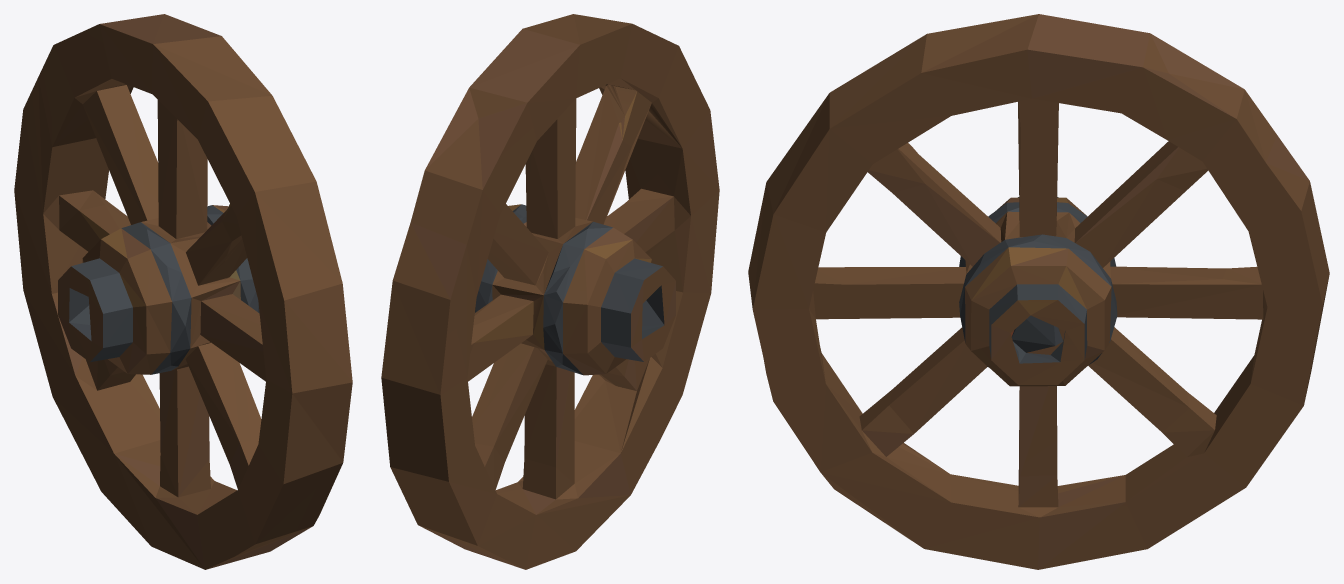
The model's file is mdvl_props_cart_wheel_01.glb.
The picture shows the model from 3 angles, left to right: view 1: azimuth 30°, elevation 25°; view 2: azimuth 150°, elevation 25°; view 3: azimuth 270°, elevation 25°; orthographic projection. The views are drawn at different scales.
Parts seen in each view (by area): view 1: mdvl_props_cart_wheel_01; view 2: mdvl_props_cart_wheel_01; view 3: mdvl_props_cart_wheel_01.
Boxes of the visible parts, x1,y1,x2,y2 form: mdvl_props_cart_wheel_01: (14,14,352,569); mdvl_props_cart_wheel_01: (381,14,719,569); mdvl_props_cart_wheel_01: (748,14,1329,569).
Bounding box in the file's own units: 0.3519 × 0.8402 × 0.8407.
Materials: 1 (1 with a texture image).
